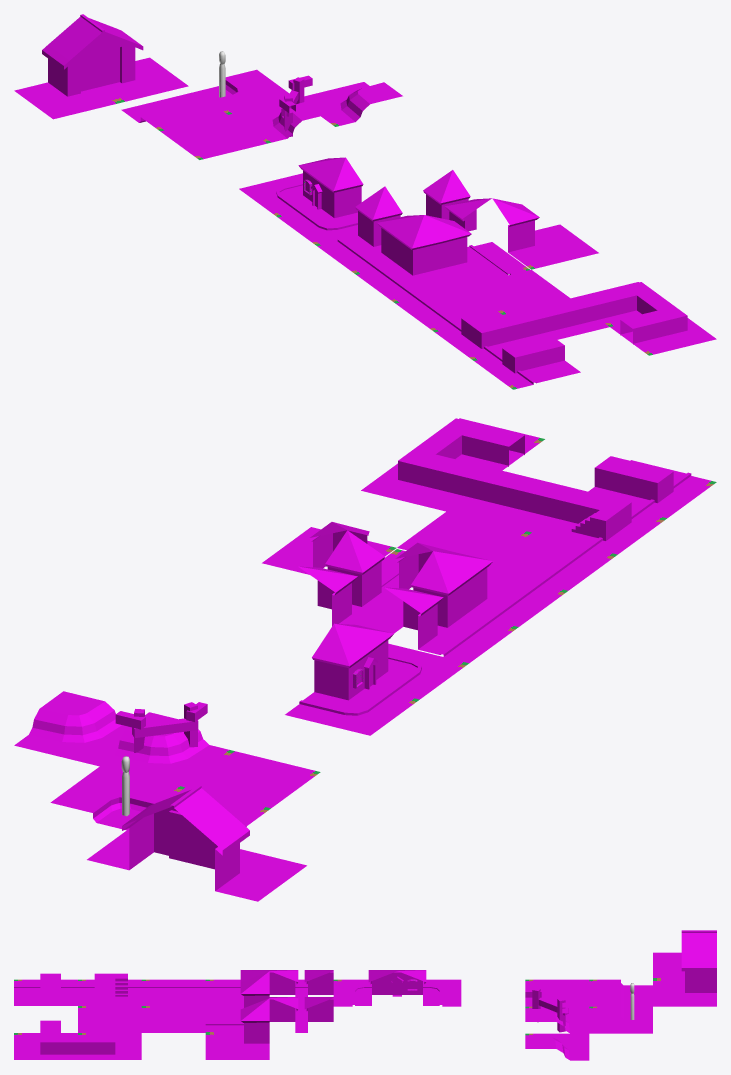
The model's file is Tiles.fbx.
The picture shows the model from 3 angles, top to bottom: view 1: azimuth 30°, elevation 25°; view 2: azimuth 150°, elevation 25°; view 3: azimuth 270°, elevation 25°; orthographic projection. The views are drawn at different scales.
Visible parts, largest first — view 1: Barn mirror, cottage corner to paved, cottag corner straight wall, Barn, cottag corner flipped, cottage corner to paved flat, cottage corner to paved mirror, station terminator mirrored, station mouth mirrored, Obstacle barrier corner, station mouth, Plane (+9 smaller); view 2: cottag corner straight wall, cottage corner, Obstacle barrier corner, Barn mirror, cottage corner row to full paved, Obstacle corner, station mouth, station side, station terminator, station mouth mirrored, cottage corner to paved, Barn (+9 smaller); view 3: Barn, cottage corner to paved flat, station terminator, station terminator mirrored, station mouth mirrored, Obstacle barrier corner, cottage corner to paved mirror, station side, paved whole, paved straight, cottag corner flipped, cottage corner (+9 smaller).
Boxes of the visible parts, bbox=[...] form: Barn mirror: bbox=[14, 14, 120, 119]; cottage corner to paved: bbox=[357, 215, 462, 303]; cottag corner straight wall: bbox=[317, 186, 423, 274]; Barn: bbox=[82, 14, 188, 102]; cottag corner flipped: bbox=[278, 157, 363, 246]; cottage corner to paved flat: bbox=[492, 198, 598, 269]; cottage corner to paved mirror: bbox=[424, 215, 529, 286]; station terminator mirrored: bbox=[610, 298, 716, 355]; station mouth mirrored: bbox=[474, 336, 580, 389]; Obstacle barrier corner: bbox=[229, 75, 334, 143]; station mouth: bbox=[435, 312, 536, 360]; Plane: bbox=[160, 115, 266, 159]; cottag corner straight wall: bbox=[384, 551, 518, 663]; cottage corner: bbox=[285, 624, 419, 735]; Obstacle barrier corner: bbox=[100, 702, 234, 787]; Barn mirror: bbox=[172, 785, 306, 901]; cottage corner row to full paved: bbox=[298, 530, 403, 633]; Obstacle corner: bbox=[14, 691, 128, 766]; station mouth: bbox=[532, 487, 666, 554]; station side: bbox=[447, 466, 567, 532]; station terminator: bbox=[361, 439, 482, 511]; station mouth mirrored: bbox=[588, 456, 716, 518]; cottage corner to paved: bbox=[434, 551, 567, 626]; Barn: bbox=[87, 785, 199, 870]; Barn: bbox=[653, 931, 716, 1006]; cottage corner to paved flat: bbox=[205, 998, 269, 1059]; station terminator: bbox=[78, 1020, 141, 1059]; station terminator mirrored: bbox=[14, 1020, 77, 1059]; station mouth mirrored: bbox=[14, 973, 77, 1005]; Obstacle barrier corner: bbox=[525, 987, 589, 1033]; cottage corner to paved mirror: bbox=[205, 971, 269, 1032]; station side: bbox=[78, 993, 141, 1032]; paved whole: bbox=[141, 1006, 205, 1032]; paved straight: bbox=[141, 979, 205, 1005]; cottag corner flipped: bbox=[333, 970, 397, 1006]; cottage corner: bbox=[397, 970, 461, 1006].
Bounding box in the file's own units: 4 × 0.9631 × 11.
